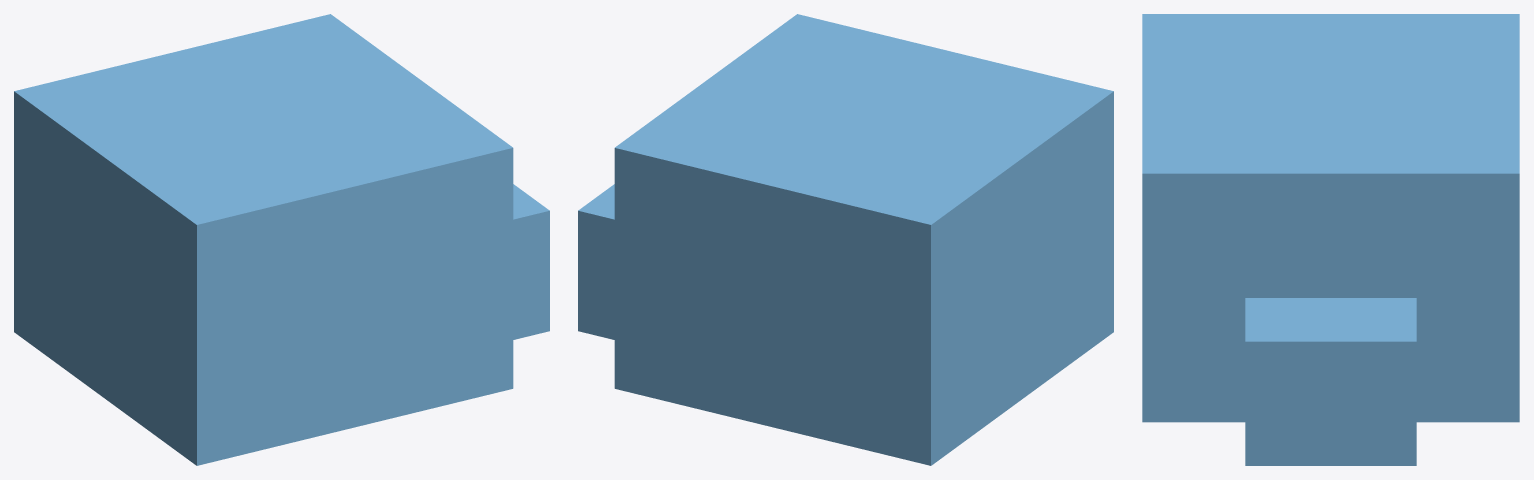
File: water.gltf
The picture shows the model from 3 angles, left to right: view 1: azimuth 30°, elevation 25°; view 2: azimuth 150°, elevation 25°; view 3: azimuth 270°, elevation 25°; orthographic projection. The views are drawn at different scales.
Bounding box in the file's own units: 28 × 16 × 22.
